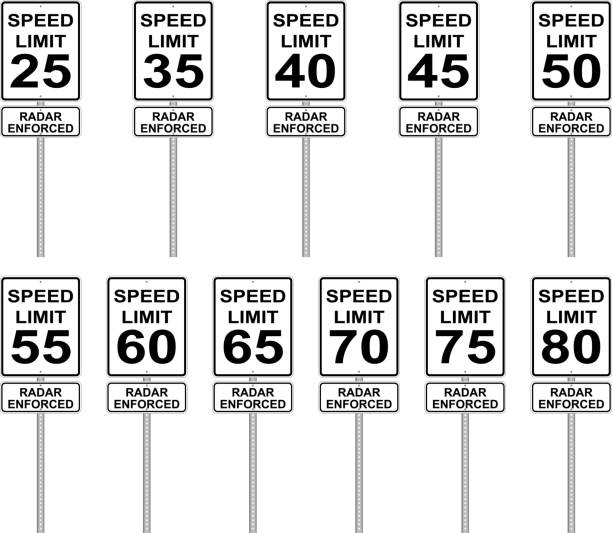SpeedLimitSign: (421, 274, 506, 381), (209, 272, 294, 378), (315, 273, 400, 379), (528, 272, 611, 379), (105, 274, 188, 378), (261, 0, 348, 99), (0, 0, 84, 102), (0, 274, 81, 379), (528, 0, 611, 101), (397, 0, 479, 102), (131, 0, 215, 99)
